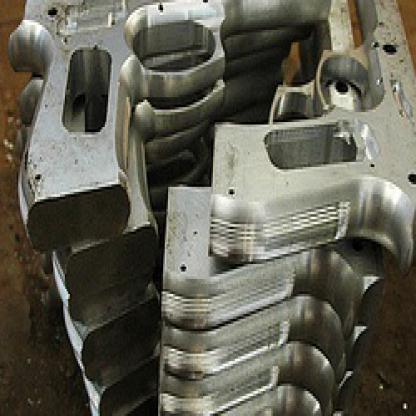gun: (6, 0, 334, 257), (210, 0, 414, 274)
